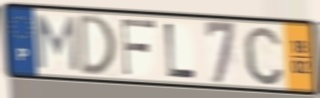7: (203, 19, 238, 87)
C: (241, 24, 286, 88)
D: (77, 12, 118, 78)
F: (120, 17, 158, 78)
L: (163, 21, 198, 81)
M: (34, 12, 81, 74)
